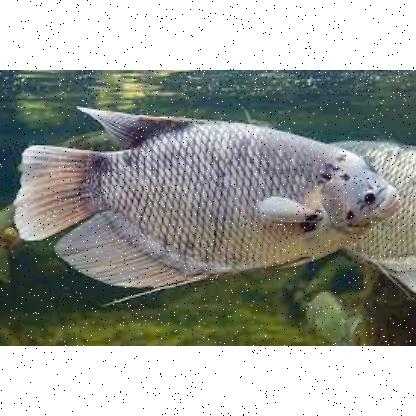gurame: (22, 102, 400, 286)
